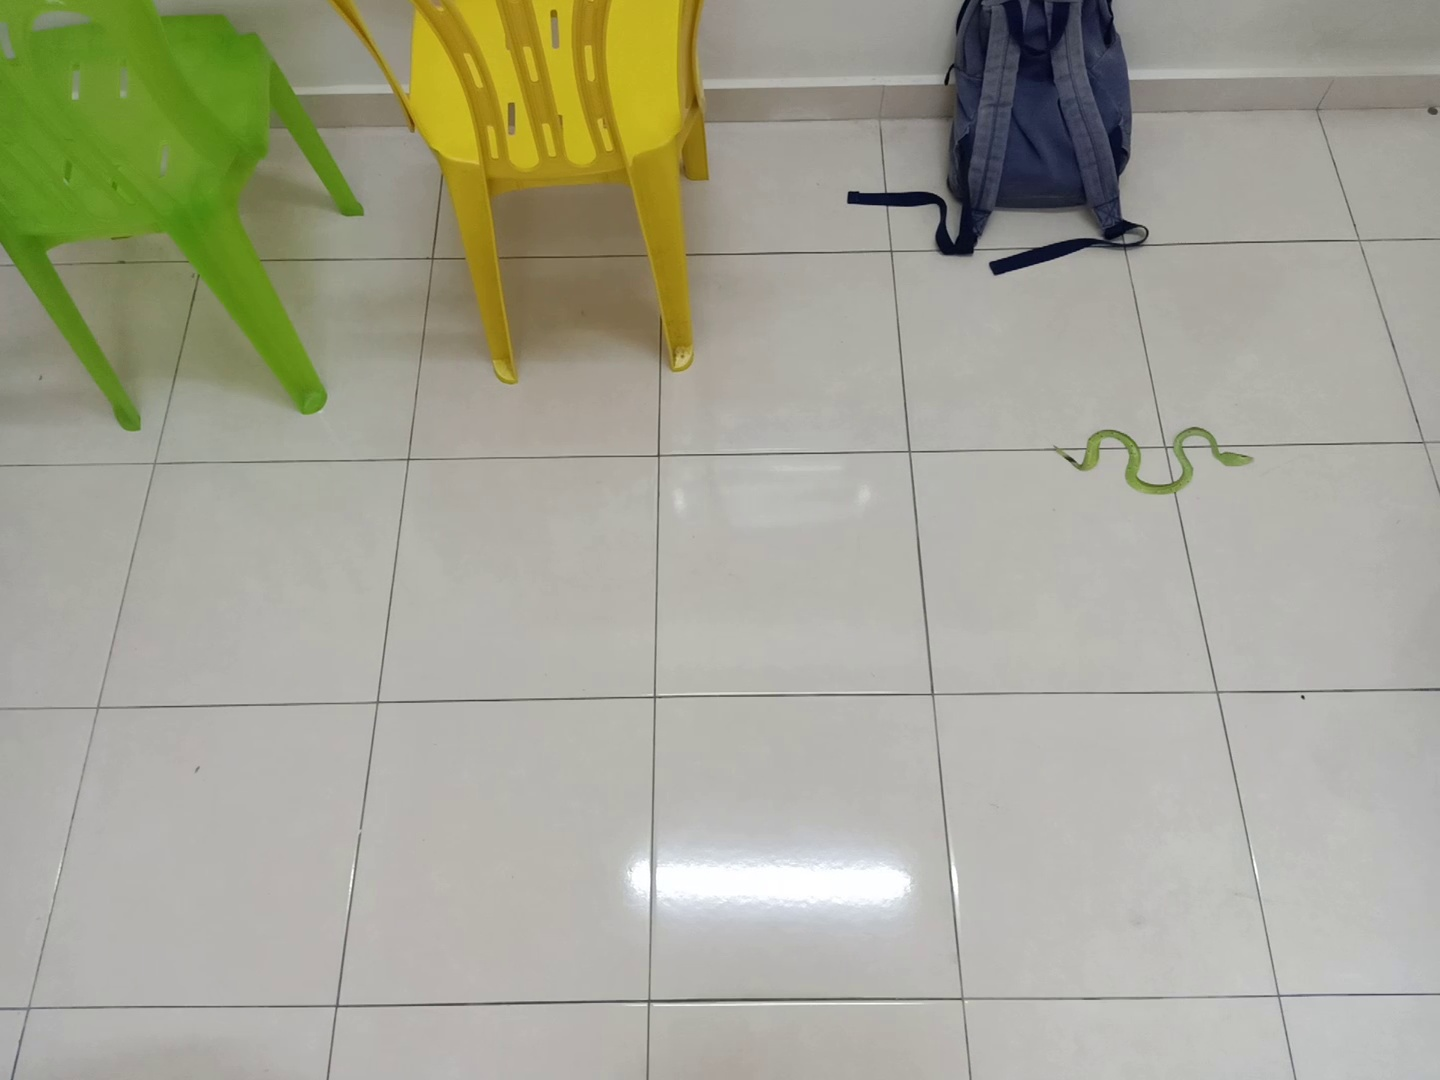snake: (1051, 422, 1263, 500)
